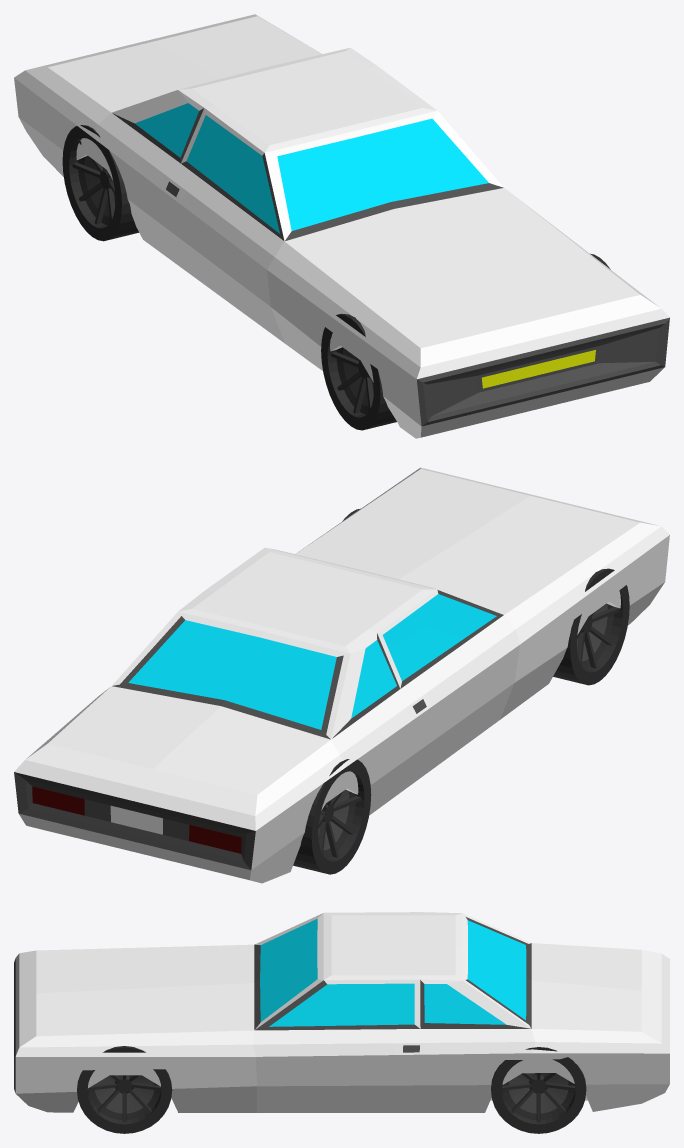
The model's file is spookycar2.glb.
3 views of the same model, one above another, from view 1: azimuth 30°, elevation 25°; view 2: azimuth 150°, elevation 25°; view 3: azimuth 270°, elevation 25° (orthographic). The views are drawn at different scales.
Parts seen in each view (by area): view 1: Body, WheelBR, WheelFR; view 2: Body, WheelBR, WheelFR; view 3: Body, WheelBL, WheelFL.
Part boxes in pixels (x1,y1,x2,y2): Body: (14, 14, 669, 438); WheelBR: (62, 125, 138, 241); WheelFR: (321, 313, 396, 430); Body: (14, 467, 669, 883); WheelBR: (293, 759, 371, 874); WheelFR: (553, 568, 629, 685); Body: (14, 912, 669, 1112); WheelBL: (491, 1047, 586, 1133); WheelFL: (77, 1046, 172, 1133).
Size of what is drawn, in the model's own units: 1.63 by 1.07 by 4.55.
